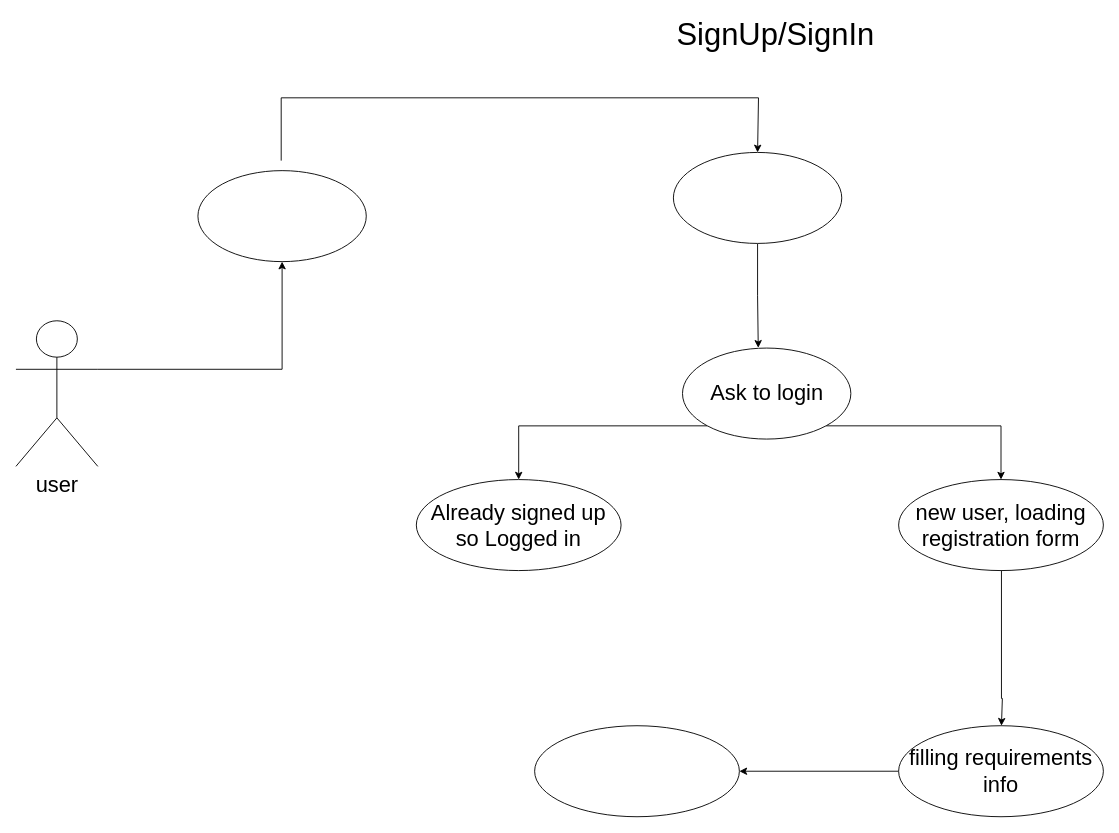
The diagram is 1119 pixels wide and 833 high, and some of its shapes have lost their labels. The shapes that lost their labels are listed below. From the top down, each one's box as (x1, y1, x2, y2) in pixels, then its label:
(197, 170, 366, 262): ask for login form
(672, 152, 842, 243): Enter phone number
(534, 725, 739, 817): signed up and logged in
